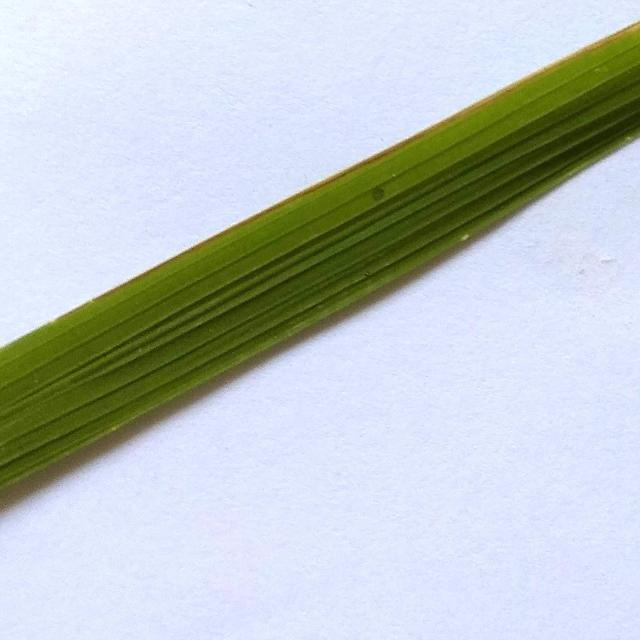healthy: (0, 18, 640, 502)
